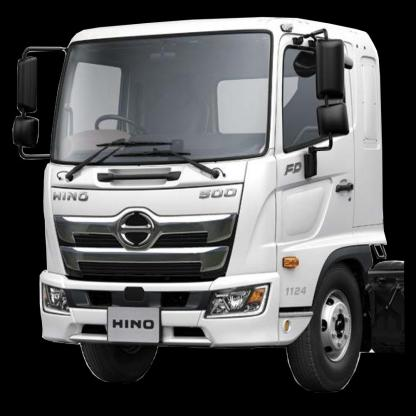dump_truck: (24, 15, 402, 396)
